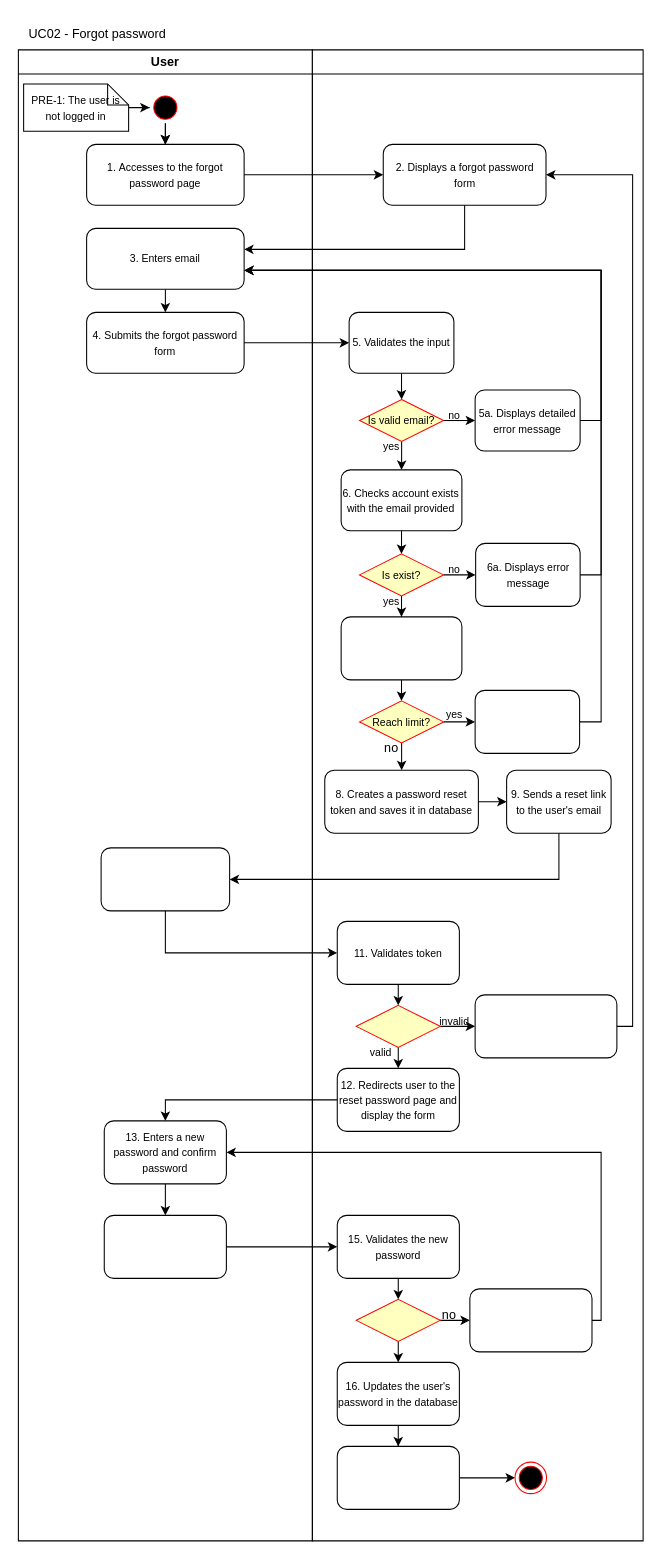
The diagram is 662 pixels wide and 1559 high, and some of its shapes have lost their labels. The box of each missing label's shape, as (x1, y1, x2, y2) in pixels:
10. Checks email and clicks the reset link: (100, 847, 230, 911)
11a. Displays error message and redirects user to the forgot password page: (474, 994, 617, 1058)
14. Submits the reset password form: (103, 1214, 226, 1278)
15a. Displays detailed error message: (469, 1288, 592, 1352)
17. Displays a success message and redirects user to the login page: (336, 1445, 459, 1509)
7. Checks the time limit that requires a password reset: (340, 616, 462, 680)
7a. Displays error message: (474, 689, 580, 753)
Is valid input?: (355, 1298, 440, 1341)
Is valid token?: (355, 1004, 440, 1047)
System: (311, 49, 643, 1541)
